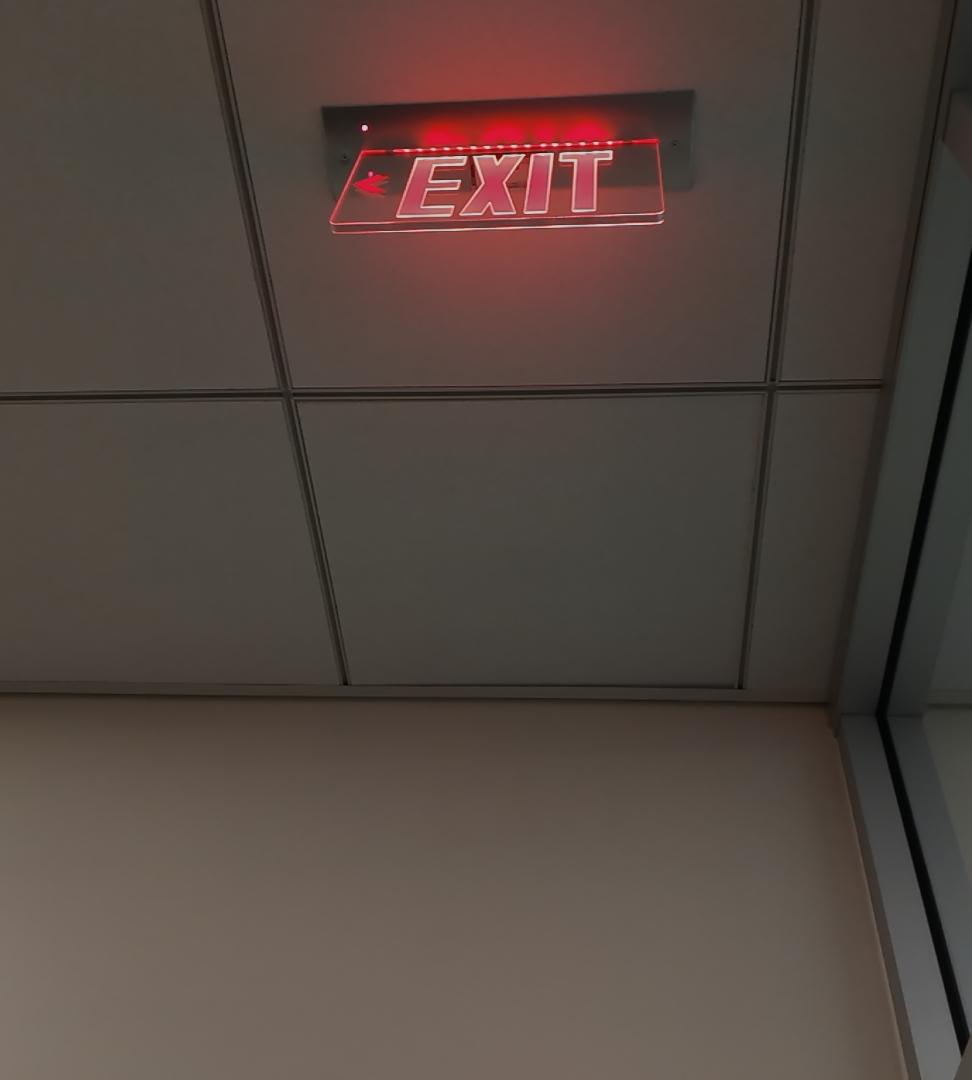emergency_exit: (319, 94, 687, 237)
